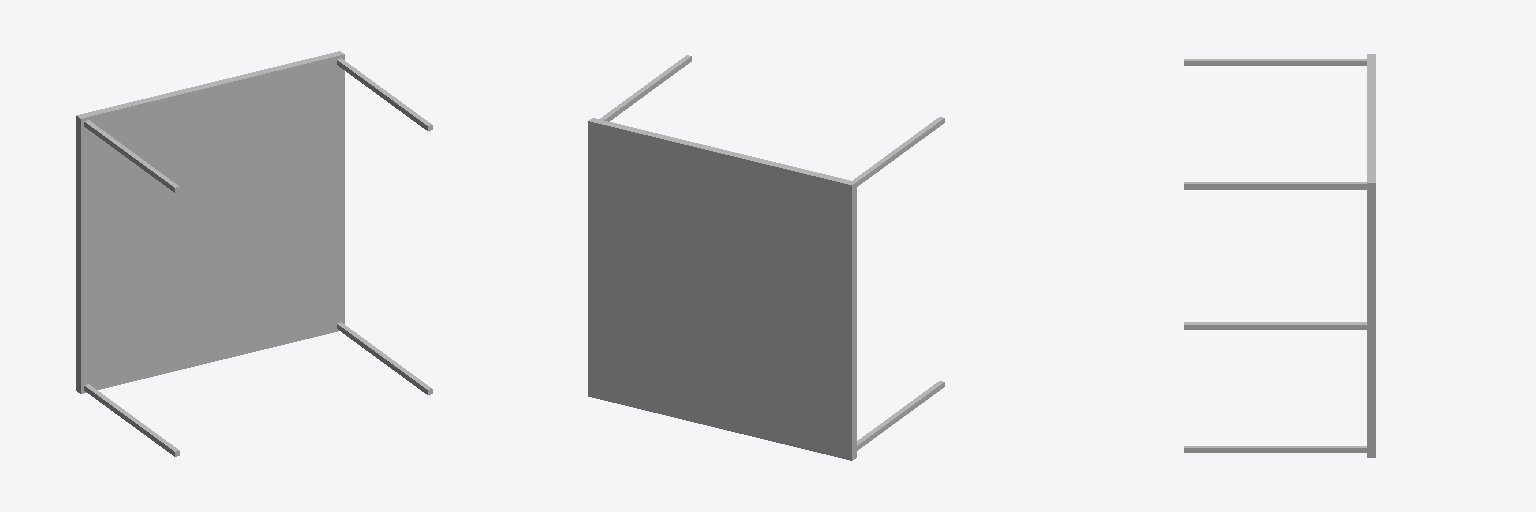
File: random_table30.obj
3 views of the same model, side by side, from view 1: azimuth 30°, elevation 25°; view 2: azimuth 150°, elevation 25°; view 3: azimuth 270°, elevation 25° (orthographic).
Visible parts, largest first — view 1: Table_Cube.345, TableLeg1_Cube.347, TableLeg3_Cube.349, TableLeg0_Cube.346, TableLeg2_Cube.348; view 2: Table_Cube.345, TableLeg1_Cube.347, TableLeg0_Cube.346, TableLeg3_Cube.349; view 3: Table_Cube.345, TableLeg0_Cube.346, TableLeg3_Cube.349, TableLeg1_Cube.347, TableLeg2_Cube.348.
Part boxes in pixels (bbox=[...]): Table_Cube.345: bbox=[76, 51, 344, 393]; TableLeg1_Cube.347: bbox=[84, 120, 179, 192]; TableLeg3_Cube.349: bbox=[84, 384, 179, 456]; TableLeg0_Cube.346: bbox=[337, 58, 432, 130]; TableLeg2_Cube.348: bbox=[337, 322, 432, 394]; Table_Cube.345: bbox=[588, 118, 856, 460]; TableLeg1_Cube.347: bbox=[853, 117, 944, 186]; TableLeg0_Cube.346: bbox=[600, 55, 691, 121]; TableLeg3_Cube.349: bbox=[857, 381, 944, 450]; Table_Cube.345: bbox=[1367, 54, 1375, 457]; TableLeg0_Cube.346: bbox=[1184, 182, 1366, 189]; TableLeg3_Cube.349: bbox=[1184, 322, 1366, 329]; TableLeg1_Cube.347: bbox=[1184, 59, 1366, 65]; TableLeg2_Cube.348: bbox=[1184, 446, 1366, 452].
Size of the model in its own units: 8.01 by 7.99 by 5.03.